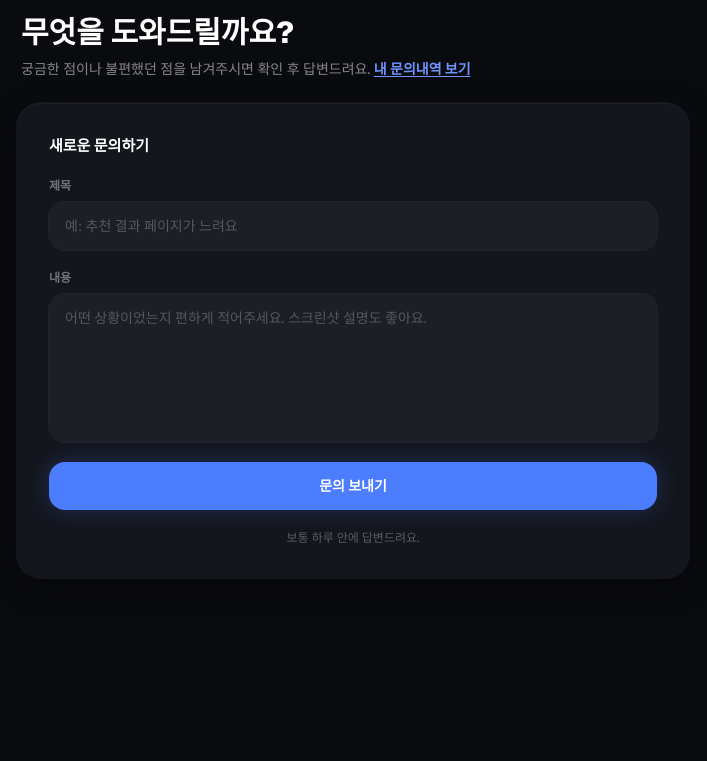
Test: /support 문의 제출 › createSupportInquiry가 에러를 반환하면 실패 토스트를 보여준다
Step 1. Type "추천 결과가 느려요" into the field labelled "제목" → x=353, y=226, box [49,202,657,250]
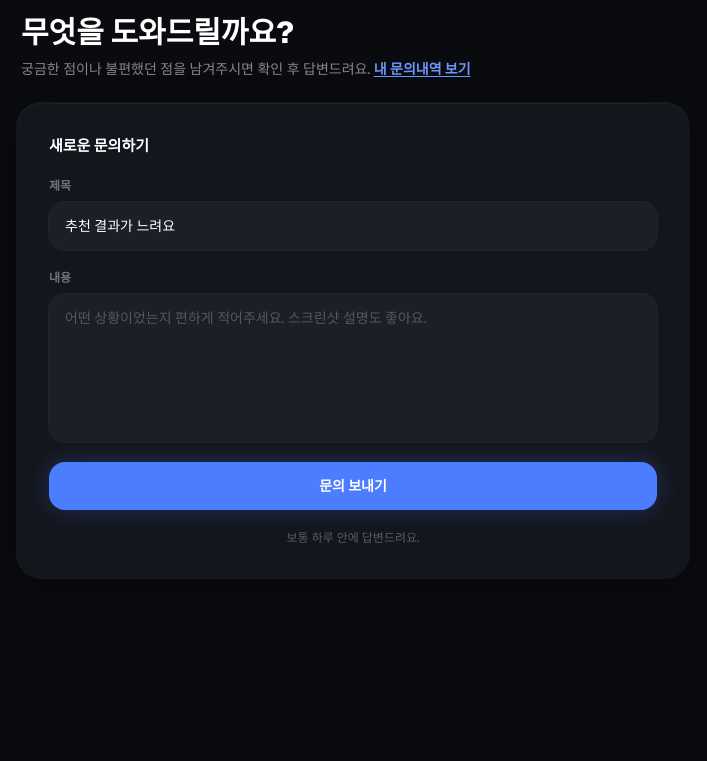
Step 2. Type "충분히 긴 문의 내용입니다." into the text box labelled "내용" → x=353, y=368, box [49,294,657,442]
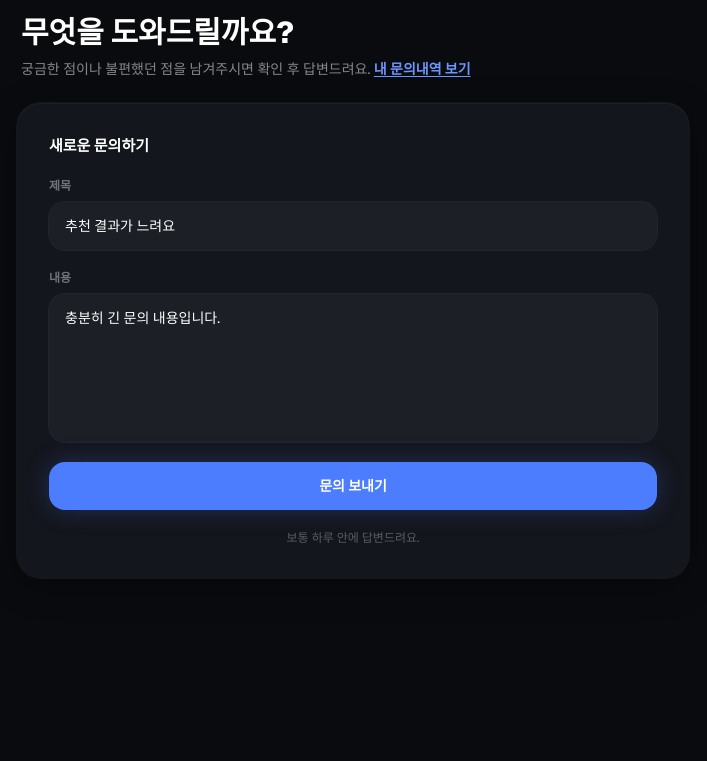
Step 3. Click the button "문의 보내기" → x=353, y=486, box [49,462,657,510]
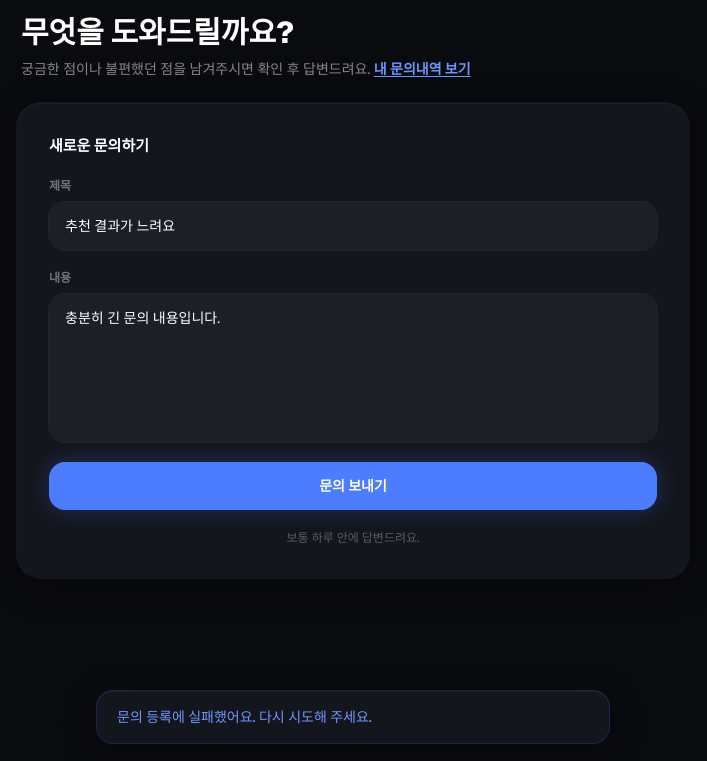
Expected: the text "문의 등록에 실패했어요. 다시 시도해 주세요." is shown, [97,691,609,743]
